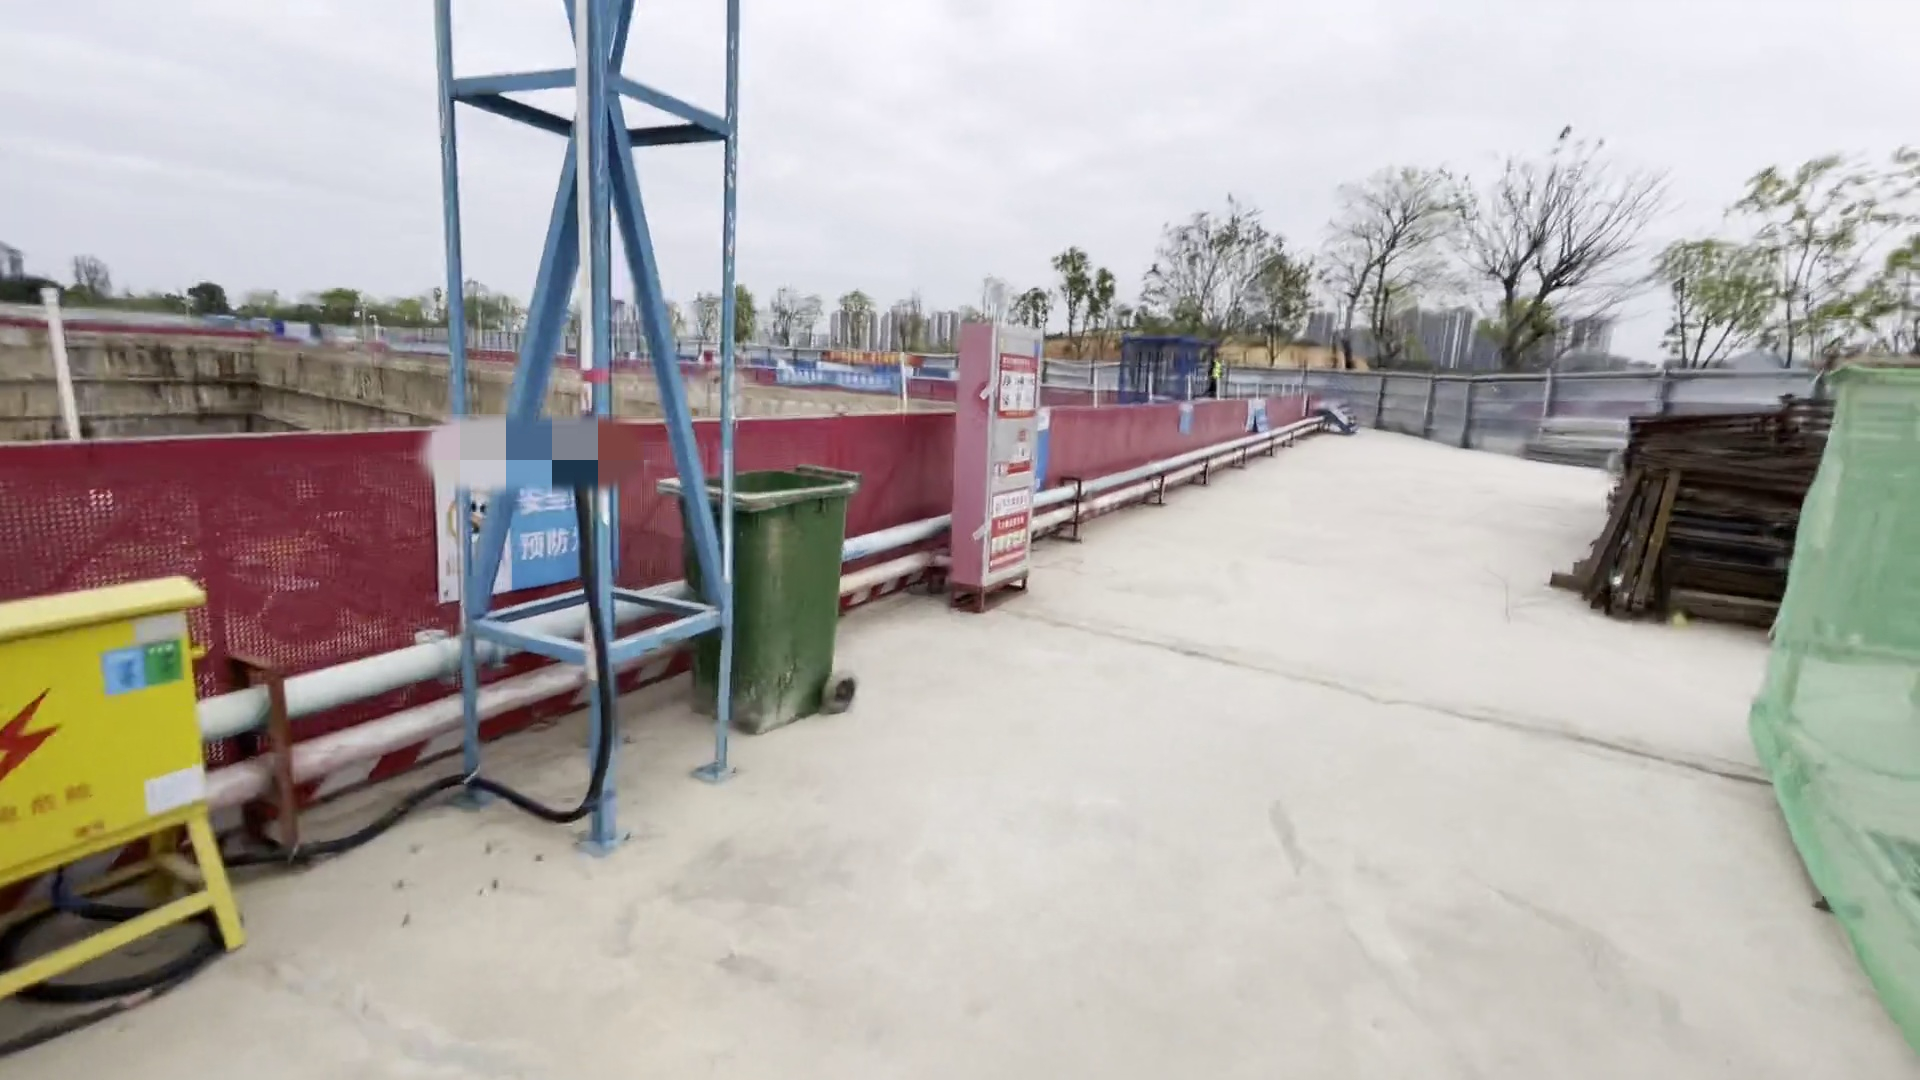ebox: (1, 564, 262, 953)
fence: (1, 388, 1304, 749)
slogan: (498, 472, 633, 575), (766, 363, 909, 393), (824, 343, 923, 368)
